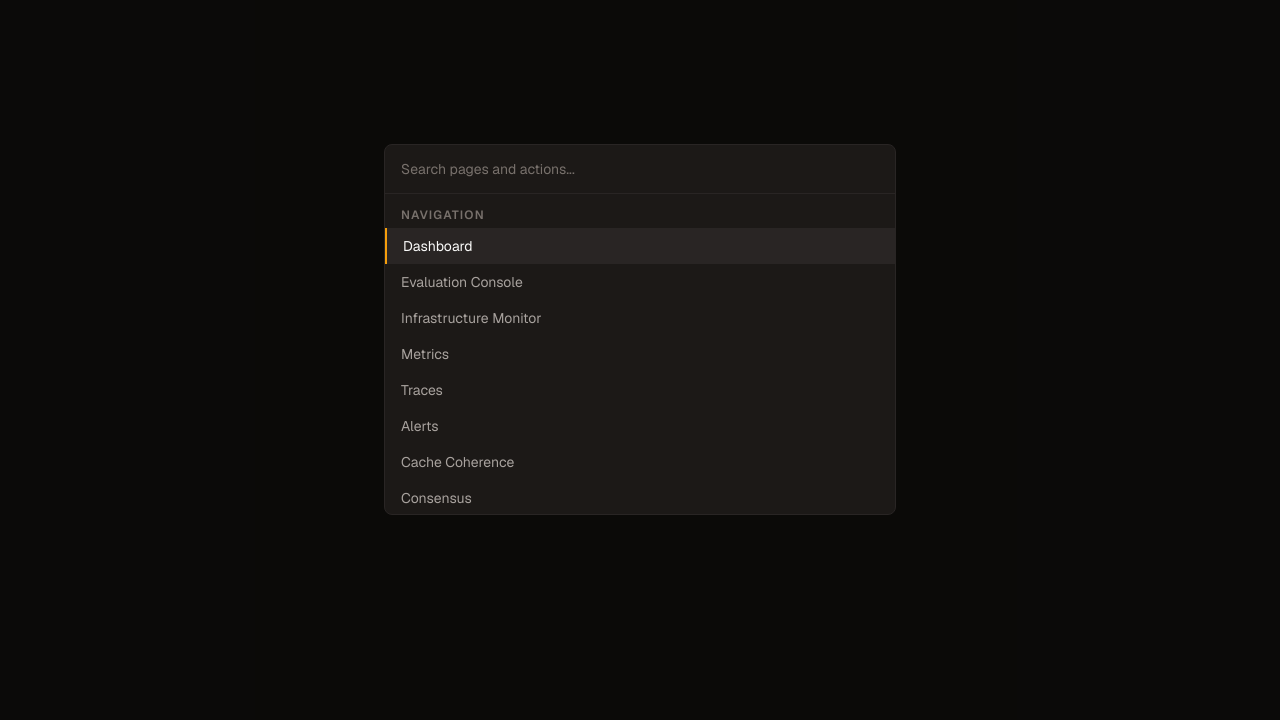
Test: CommandPalette › shows no results message when query matches nothing
Type "xyznonexistent" into the field with placeholder "Search pages and actions...".
click(640, 169); type("xyznonexistent")  # box [401,159,879,179]
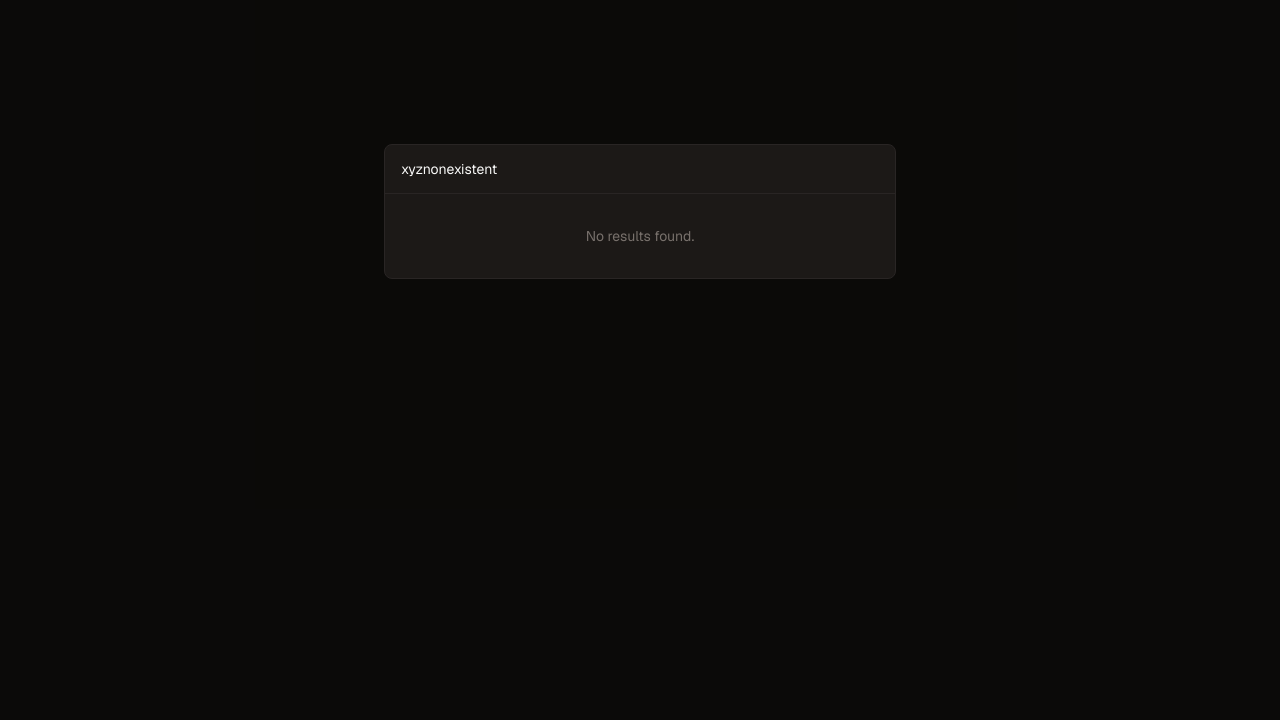
Expected: the text "No results found." is shown, [586,227,694,245]
